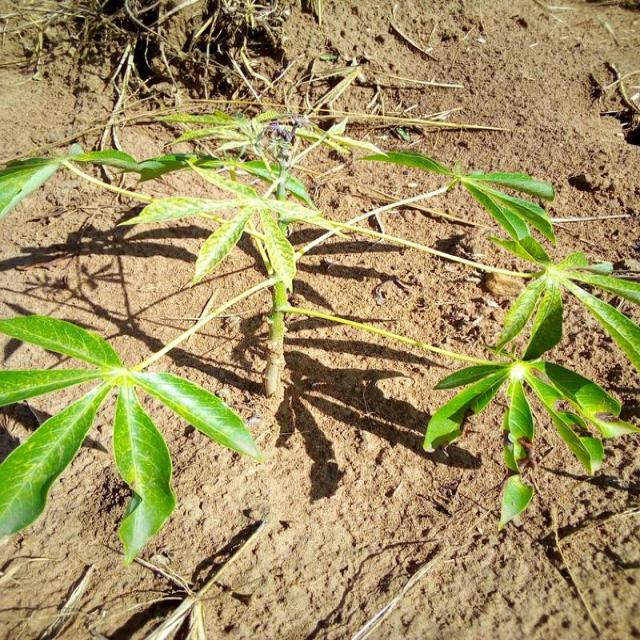cassava leaf: (0, 296, 263, 566), (111, 377, 176, 566)
